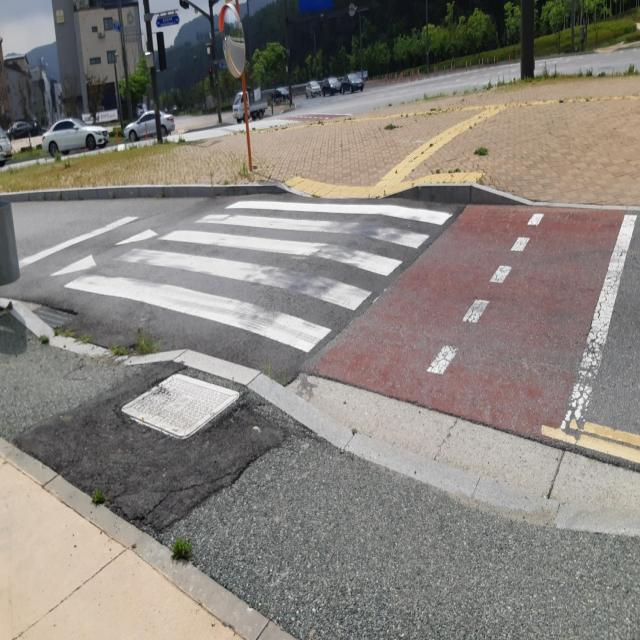횡단보도: (63, 200, 454, 354)
